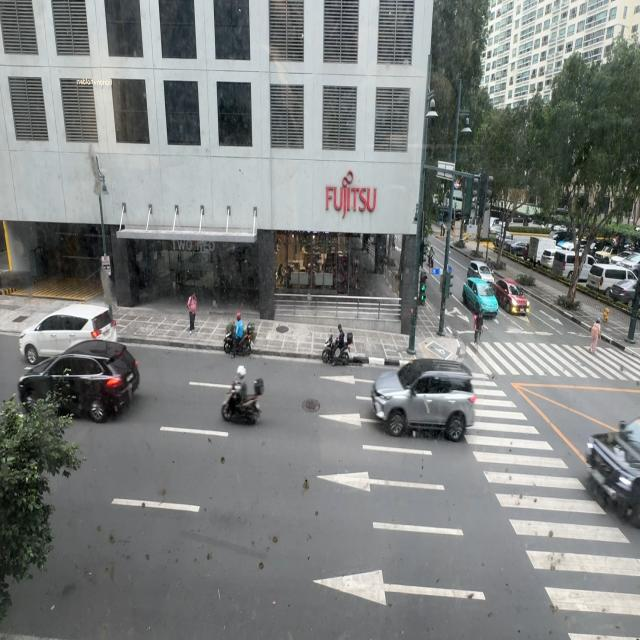crossing: (590, 316, 602, 354)
pedestrain: (188, 292, 197, 336)
